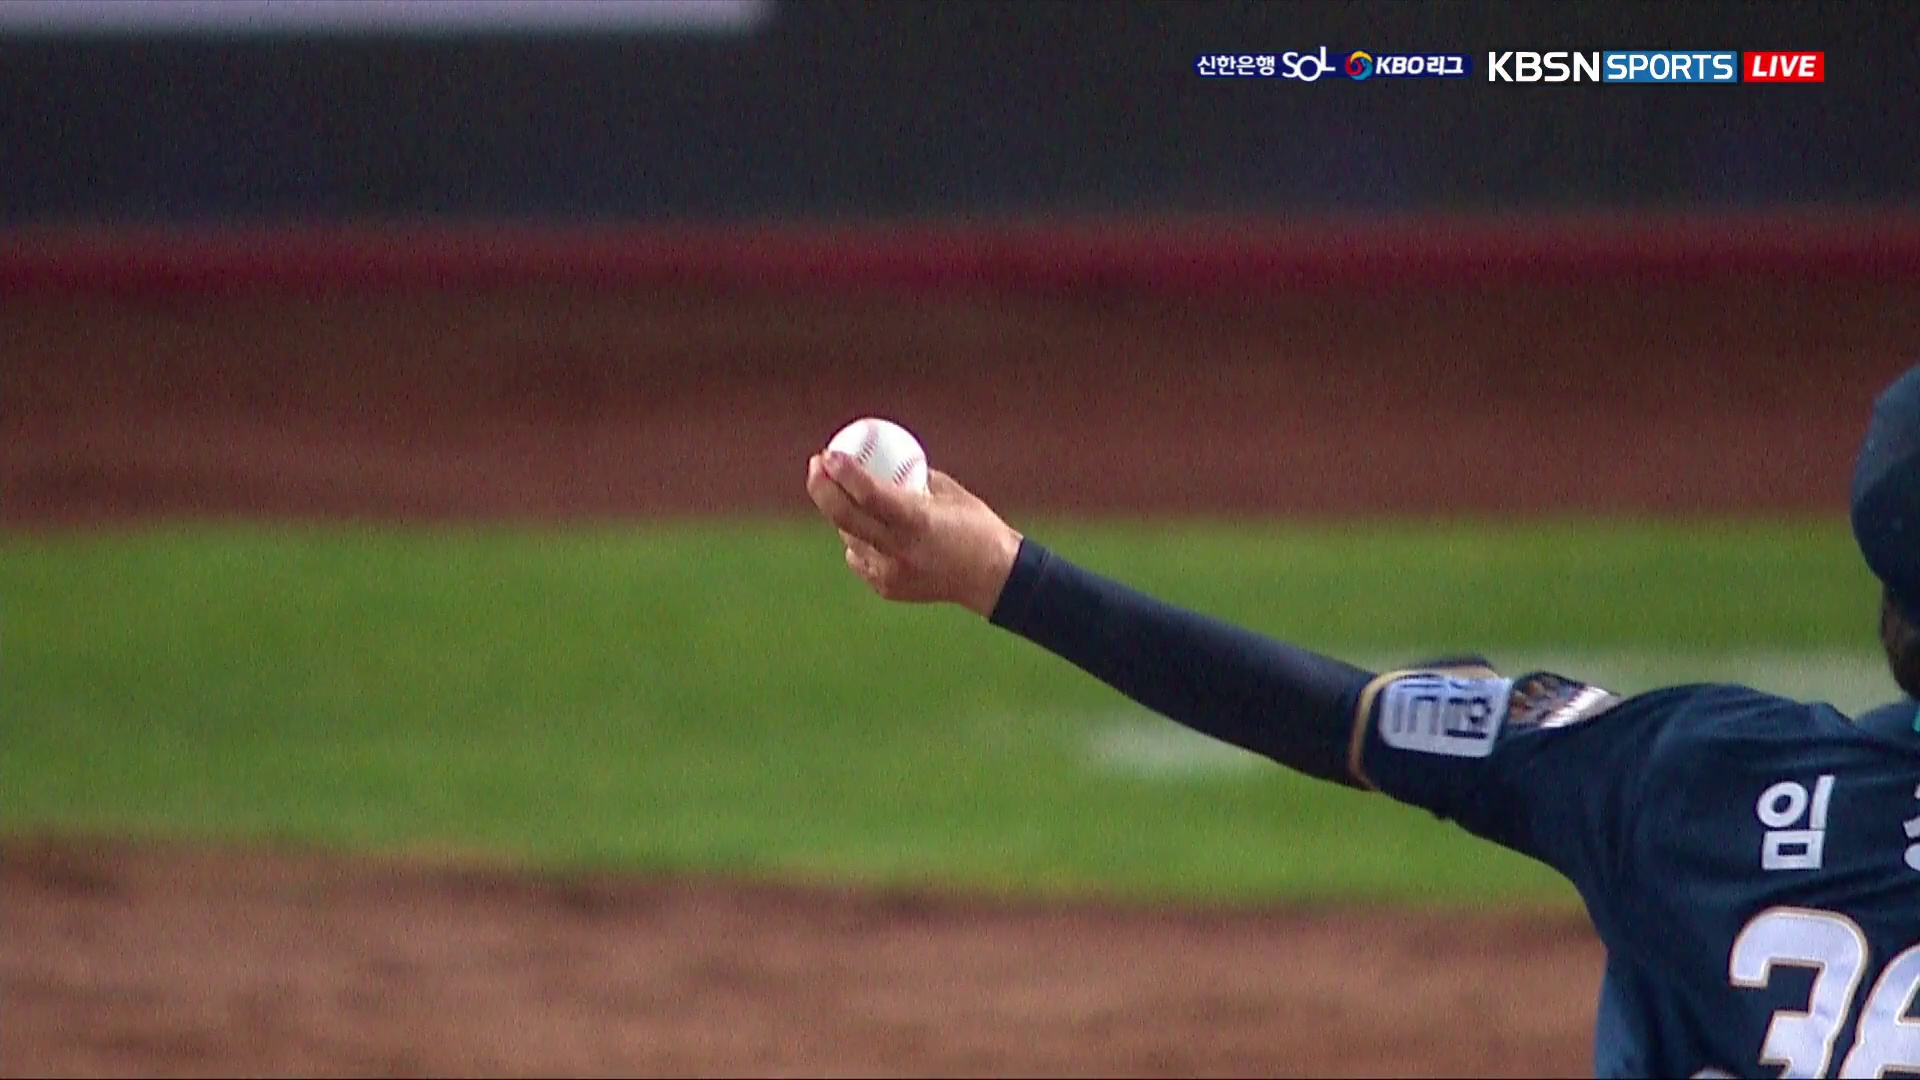zoomin_hand: (798, 414, 1457, 808)
